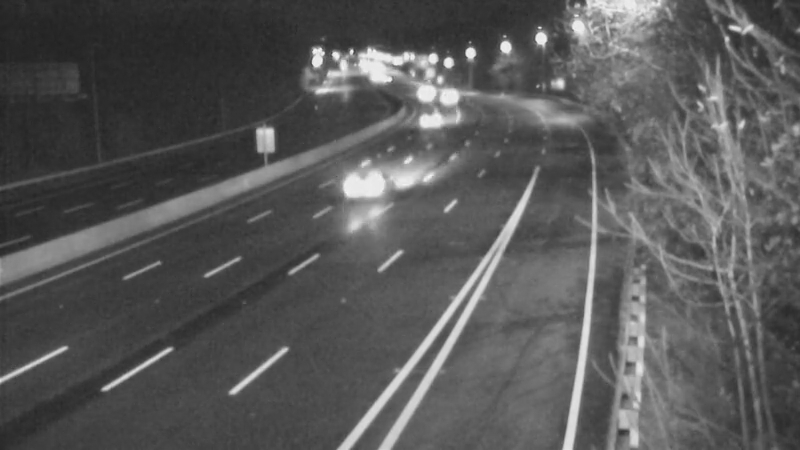vehicle: (315, 144, 395, 224), (397, 71, 447, 121), (429, 69, 479, 119), (406, 94, 456, 144)
